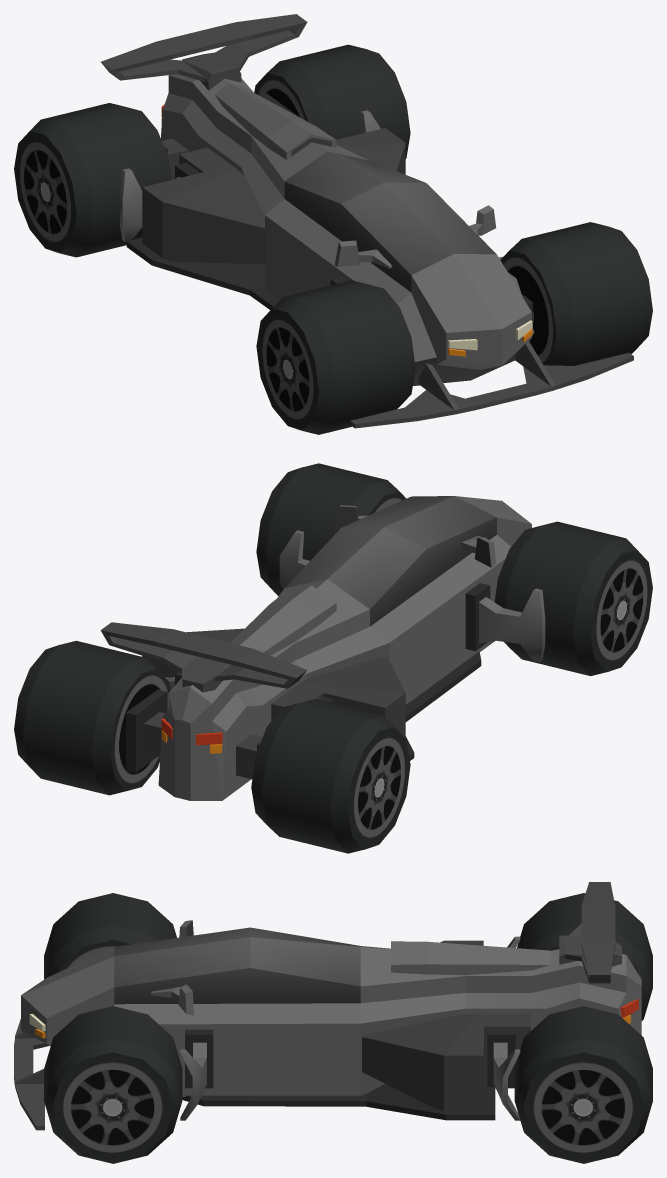
The model's file is RaceCarB.fbx.
3 views of the same model, one above another, from view 1: azimuth 30°, elevation 25°; view 2: azimuth 150°, elevation 25°; view 3: azimuth 270°, elevation 25° (orthographic). The views are drawn at different scales.
Parts seen in each view (by area): view 1: RaceCarB, TireFR, TireBR, TireFL, TireBL; view 2: RaceCarB, TireBR, TireFR, TireBL, TireFL; view 3: RaceCarB, TireFL, TireBL, TireFR, TireBR.
Part boxes in pixels (x1,y1,x2,y2): RaceCarB: [101, 14, 633, 428]; TireFR: [256, 280, 415, 434]; TireBR: [14, 103, 171, 257]; TireFL: [500, 222, 652, 365]; TireBL: [254, 44, 410, 158]; RaceCarB: [100, 496, 545, 800]; TireBR: [251, 699, 410, 853]; TireFR: [494, 521, 652, 676]; TireBL: [14, 640, 170, 795]; TireFL: [256, 463, 406, 595]; RaceCarB: [14, 882, 641, 1130]; TireFL: [44, 1006, 182, 1163]; TireBL: [514, 1006, 652, 1163]; TireFR: [44, 893, 176, 979]; TireBR: [517, 893, 652, 1020].
Bounding box in the file's own units: 251 × 124 × 429.
